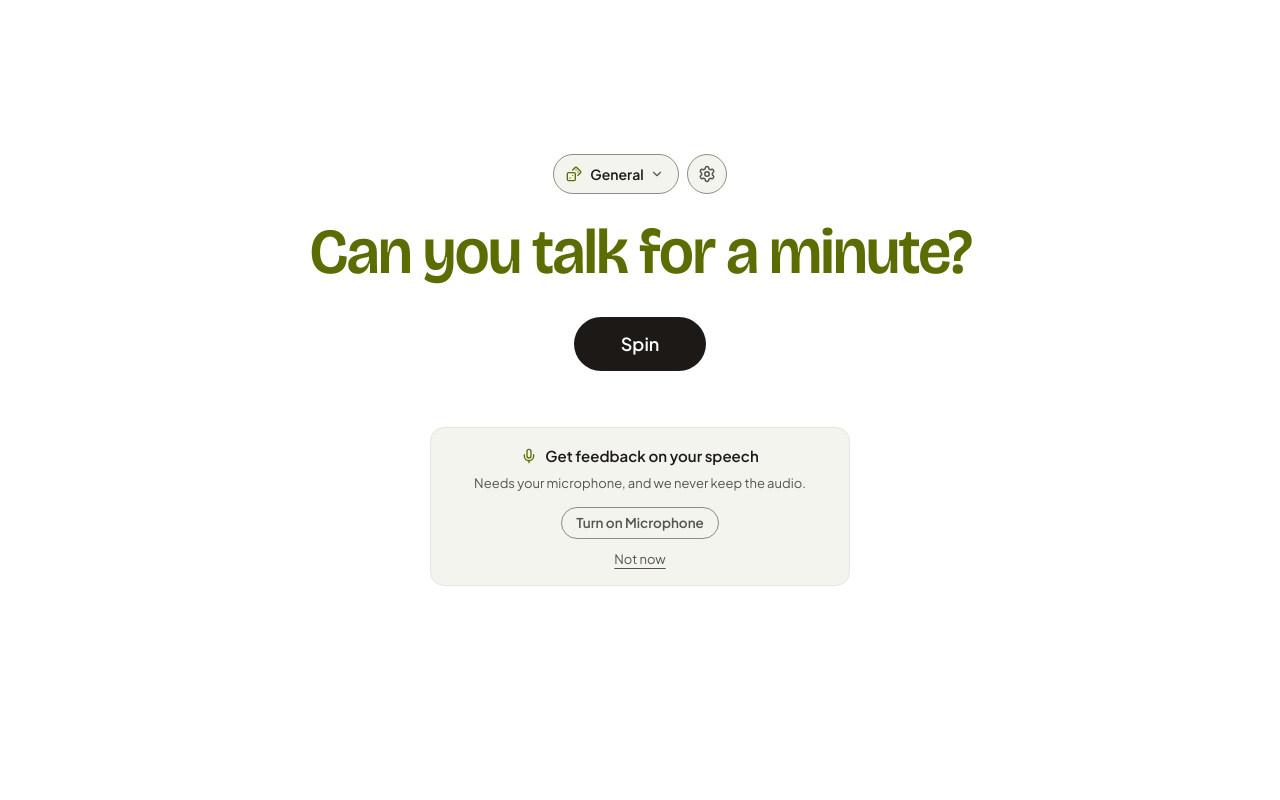
the sheets › picks a genre from one flat list, with Yours last for a stranger and a way to make their own
This screenshot has width=1280, height=800.
Step 1. Click the button "General" → [616, 174], box [553,154,679,194]
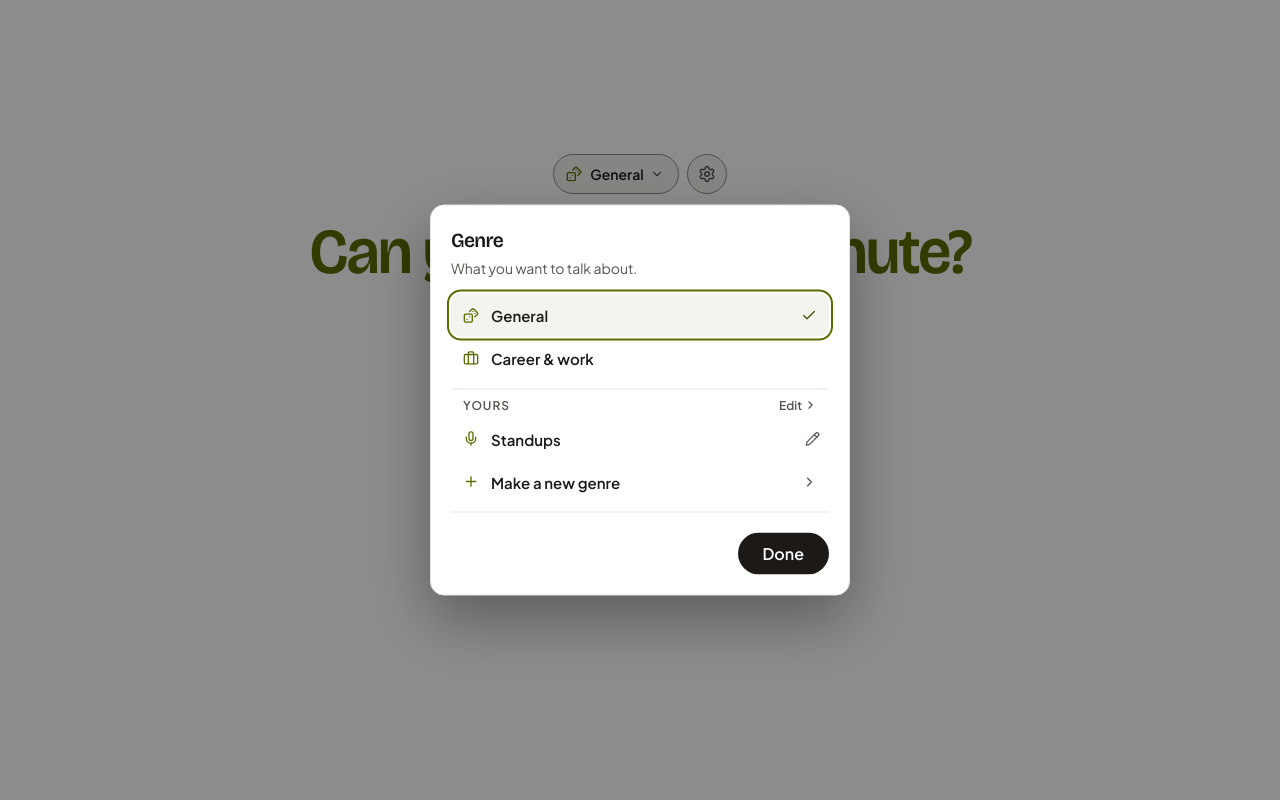
Expected: the options read "General", "Career & work", in this order
Step 2. Click the option "Career & work" → [542, 358], box [451,337,829,380]
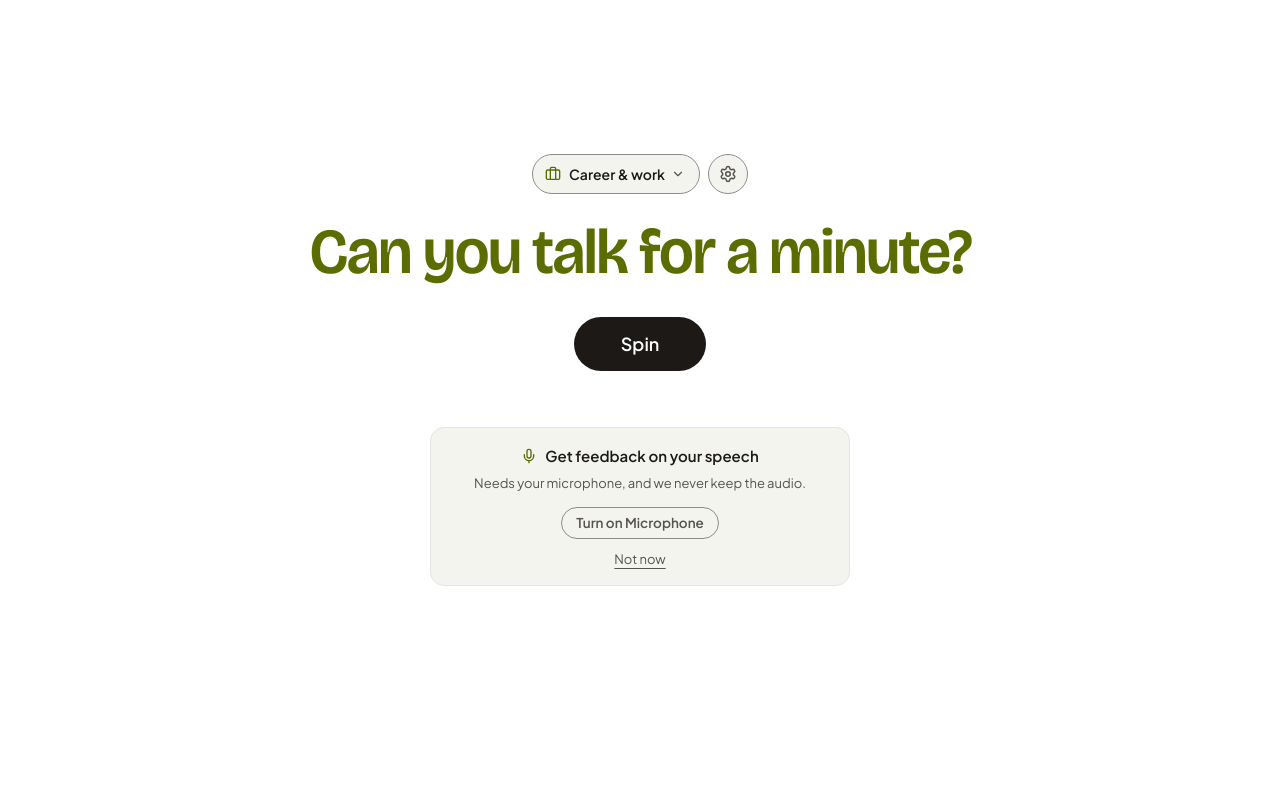
Expected: the dialog is gone
Expected: the button "Career & work" is shown, [532,154,700,194]
